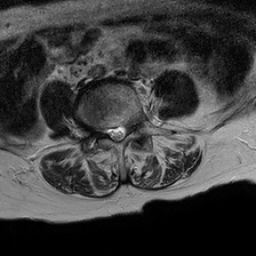CCS_severe_stenosis: (114, 120, 121, 149)
LFS_severe_stenosis: (128, 113, 137, 138)
LLS_normal: (121, 117, 128, 144)
RFS_severe_stenosis: (98, 116, 106, 142)
RLS_normal: (106, 120, 114, 145)
